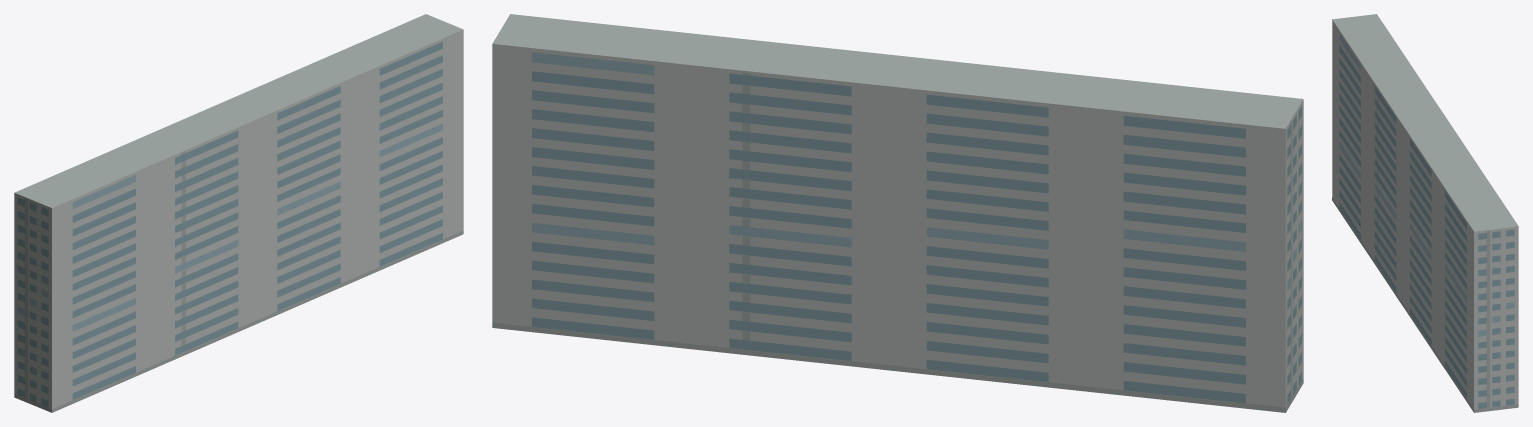
Rendered from residential-ac974cff-511d-46f6-95a1-9cb415e7e263.glb.
3 views of the same model, side by side, from view 1: azimuth 30°, elevation 25°; view 2: azimuth 150°, elevation 25°; view 3: azimuth 270°, elevation 25° (orthographic). The views are drawn at different scales.
Visible parts, largest first — view 1: residential-ac974cff-511d-46f6-95a1-9cb415e7e263.tmp; view 2: residential-ac974cff-511d-46f6-95a1-9cb415e7e263.tmp; view 3: residential-ac974cff-511d-46f6-95a1-9cb415e7e263.tmp.
Part boxes in pixels (box(x1,y1,x2,y2)): residential-ac974cff-511d-46f6-95a1-9cb415e7e263.tmp: box(14, 14, 463, 412); residential-ac974cff-511d-46f6-95a1-9cb415e7e263.tmp: box(492, 14, 1303, 412); residential-ac974cff-511d-46f6-95a1-9cb415e7e263.tmp: box(1332, 14, 1518, 412).
Size of the model in its own units: 118 by 45.75 by 42.71.
